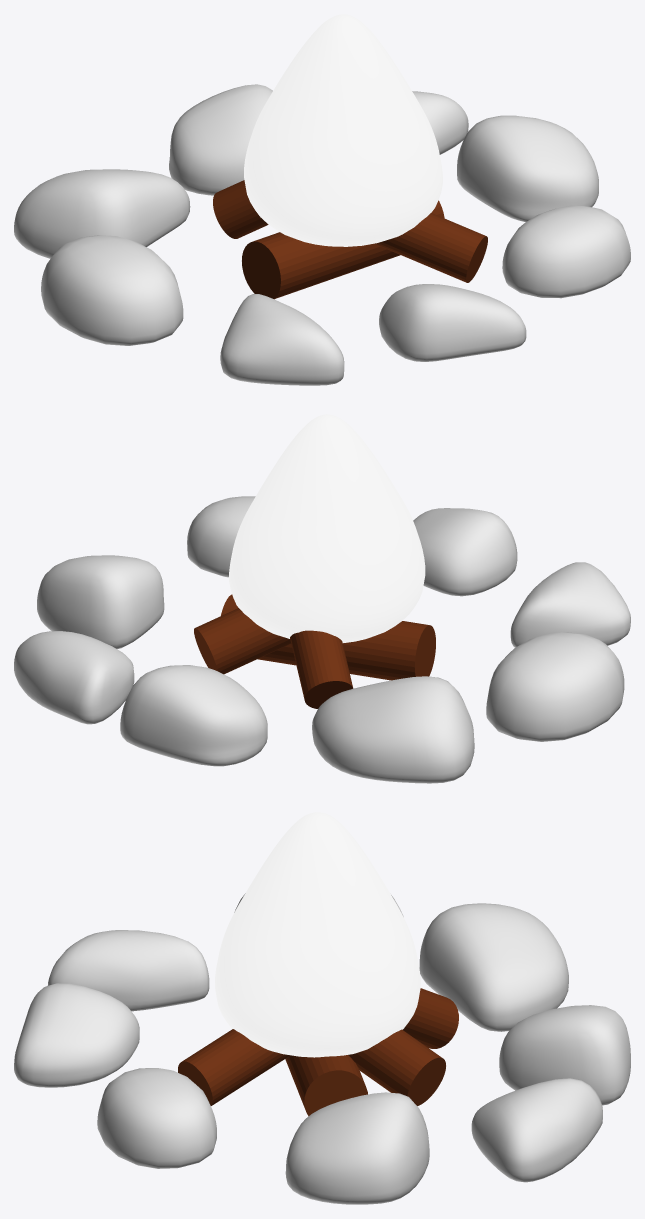
File: firecamp.glb
3 views of the same model, one above another, from view 1: azimuth 30°, elevation 25°; view 2: azimuth 150°, elevation 25°; view 3: azimuth 270°, elevation 25° (orthographic). The views are drawn at different scales.
Visible parts, largest first — view 1: fogo, pedra, pedra7, pedra1, pedra6, pedra5, pedra4, pedra2, lenha, lenha3, pedra3, lenha1; view 2: fogo, pedra1, pedra, pedra2, pedra7, pedra3, pedra5, pedra4, lenha, lenha2, lenha1, pedra6; view 3: fogo, pedra1, pedra7, pedra5, pedra3, pedra6, pedra2, pedra4, lenha2, lenha3, lenha, lenha1.
Boxes of the visible parts, <box> form: fogo: <box>244,14,442,246</box>; pedra: <box>41,235,183,345</box>; pedra7: <box>457,115,598,221</box>; pedra1: <box>14,169,190,258</box>; pedra6: <box>502,205,630,298</box>; pedra5: <box>379,284,526,361</box>; pedra4: <box>220,294,344,385</box>; pedra2: <box>169,84,272,195</box>; lenha: <box>242,200,444,299</box>; lenha3: <box>374,213,487,282</box>; pedra3: <box>412,91,468,154</box>; lenha1: <box>213,180,268,238</box>; fogo: <box>229,414,425,642</box>; pedra1: <box>312,676,474,783</box>; pedra: <box>486,632,624,741</box>; pedra2: <box>120,665,267,766</box>; pedra7: <box>37,555,164,648</box>; pedra3: <box>14,631,134,724</box>; pedra5: <box>413,508,517,596</box>; pedra4: <box>510,562,630,647</box>; lenha: <box>221,594,435,680</box>; lenha2: <box>194,608,291,674</box>; lenha1: <box>290,630,353,708</box>; pedra6: <box>187,496,255,577</box>; fogo: <box>215,812,420,1057</box>; pedra1: <box>419,903,568,1031</box>; pedra7: <box>285,1092,429,1204</box>; pedra5: <box>14,983,139,1087</box>; pedra3: <box>471,1078,602,1182</box>; pedra6: <box>97,1068,216,1168</box>; pedra2: <box>499,1005,630,1105</box>; pedra4: <box>47,930,209,1011</box>; lenha2: <box>348,1029,445,1105</box>; lenha3: <box>178,1029,290,1105</box>; lenha: <box>285,1055,367,1116</box>; lenha1: <box>403,988,458,1048</box>.
Size of the model in its own units: 1.58 by 0.6962 by 1.45.
